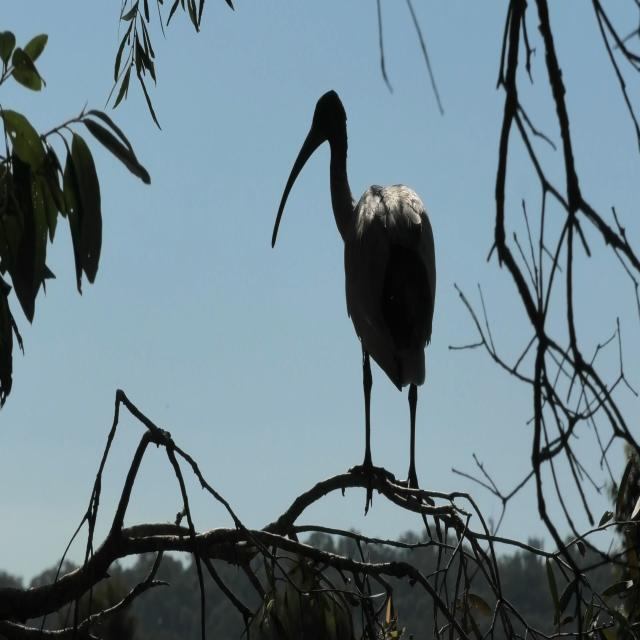Birds-Ibis: (269, 83, 446, 546)
